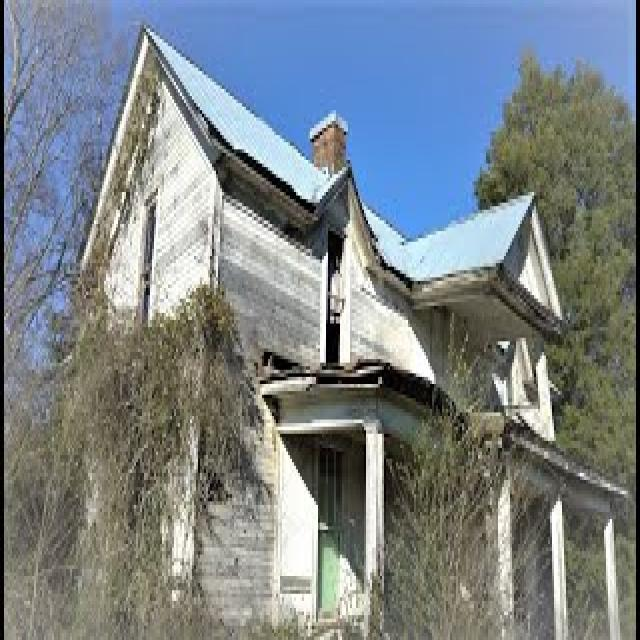House: (77, 23, 629, 640)
